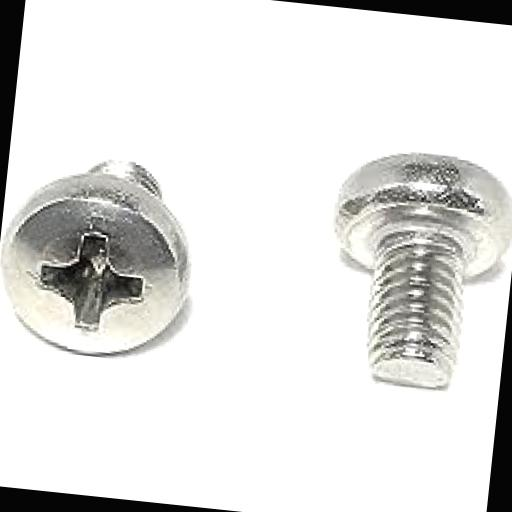Phillips: (0, 166, 199, 367)
